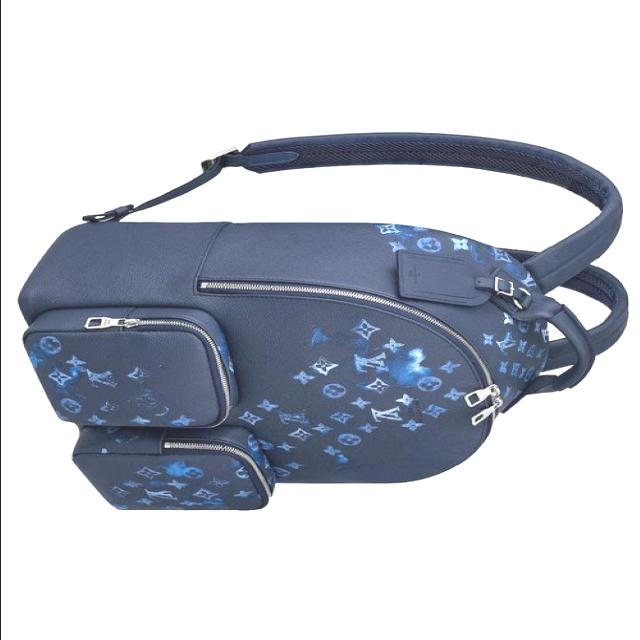backpack: (18, 132, 631, 512)
